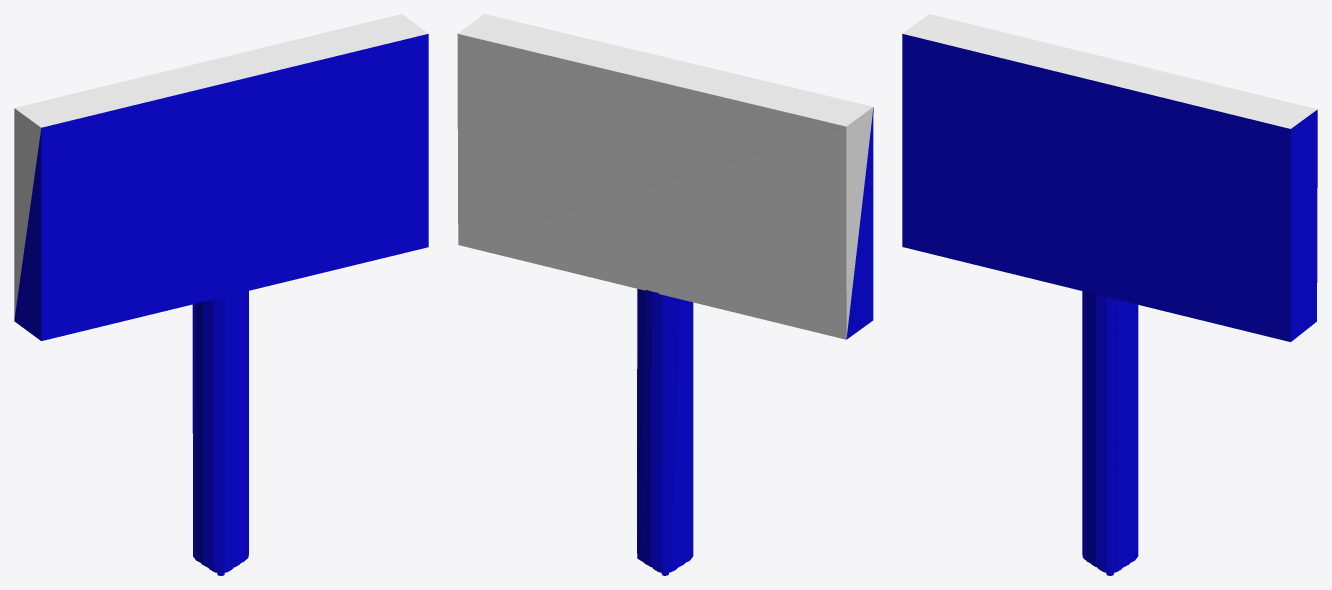
The model's file is billboard.glb.
The picture shows the model from 3 angles, left to right: view 1: azimuth 30°, elevation 25°; view 2: azimuth 150°, elevation 25°; view 3: azimuth 330°, elevation 25°; orthographic projection.
Parts seen in each view (by area): view 1: Mesh_0; view 2: Mesh_0; view 3: Mesh_0.
Part boxes in pixels (box(x1,y1,x2,y2)): Mesh_0: box(14, 14, 428, 575); Mesh_0: box(457, 14, 873, 575); Mesh_0: box(902, 14, 1317, 575).
Bounding box in the file's own units: 4.2 × 5.24 × 0.533.
